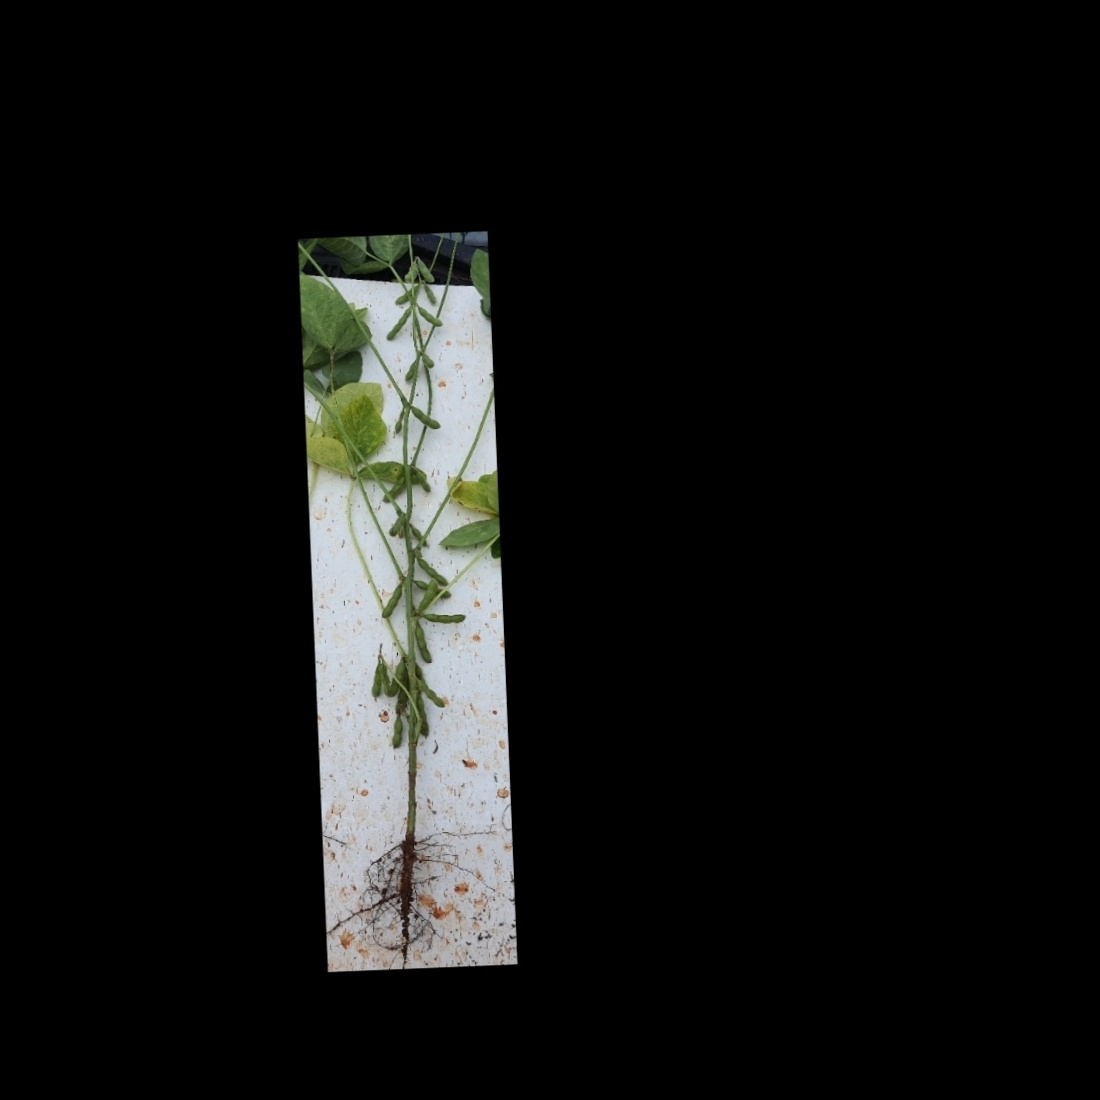pod: (416, 555, 451, 587), (382, 306, 414, 341), (378, 580, 405, 618), (407, 403, 442, 432), (415, 678, 446, 710), (386, 658, 410, 699), (411, 580, 438, 616), (412, 623, 434, 666), (380, 474, 409, 503), (419, 609, 468, 626), (367, 662, 385, 700), (415, 694, 430, 739), (416, 305, 444, 329), (395, 670, 414, 703), (392, 286, 420, 305), (389, 714, 404, 749), (410, 522, 429, 549), (418, 256, 436, 284), (378, 660, 391, 697), (413, 469, 431, 494), (402, 359, 419, 384), (392, 408, 407, 436), (422, 284, 438, 305), (420, 352, 435, 369)
soy: (316, 243, 508, 933)
